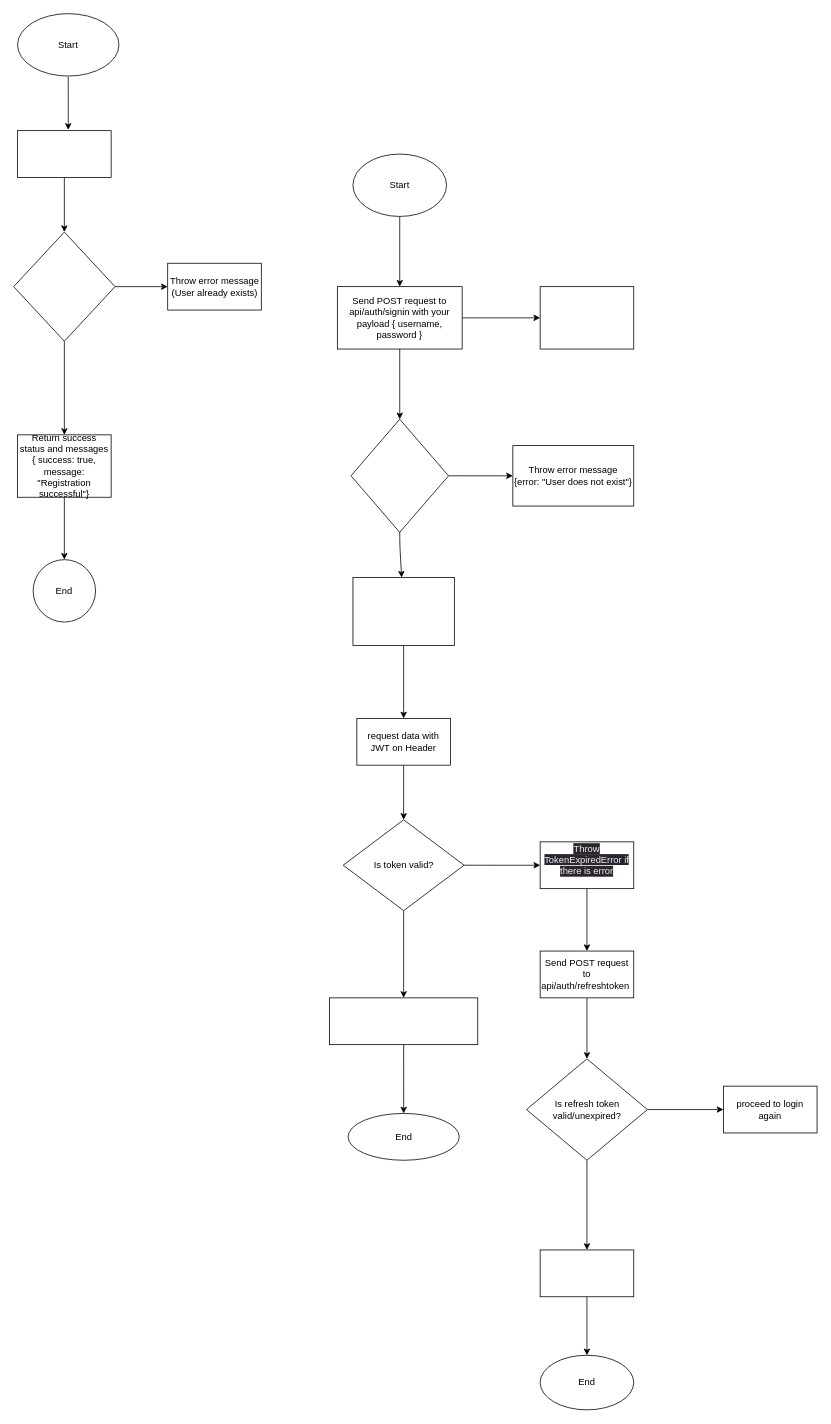
This 831x1424 diagram has some shape labels left out. The centre of each missing label's shape, as x and y in pixels:
Authenticate {username, password}. Create JWT string with a secret: point (586, 317)
Check if user already exists ?: point (64, 286)
Check if user exist ?: point (399, 475)
Return content based on Authorities: point (403, 1021)
return { access_token, refresh_token }: point (586, 1273)
return { access_token, refresh_token, user_info and authorities}: point (403, 611)
Send POST request to api/auth/signup: point (64, 153)
